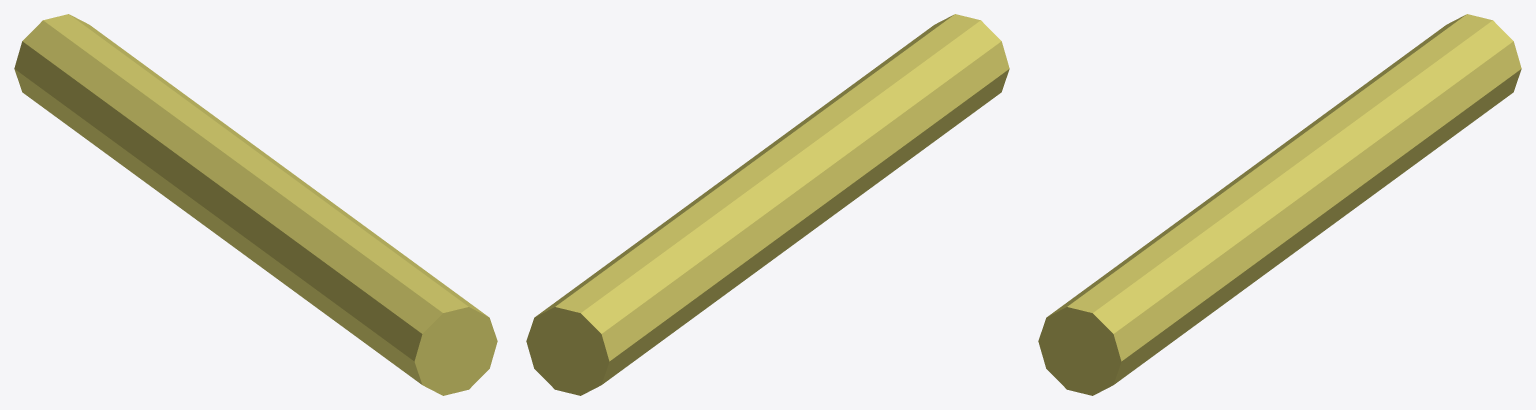
File: banana.glb
3 views of the same model, side by side, from view 1: azimuth 30°, elevation 25°; view 2: azimuth 150°, elevation 25°; view 3: azimuth 330°, elevation 25° (orthographic).
Visible parts, largest first — view 1: geometry_0; view 2: geometry_0; view 3: geometry_0.
Boxes of the visible parts, bbox=[...] form: geometry_0: bbox=[14, 14, 497, 395]; geometry_0: bbox=[526, 14, 1009, 395]; geometry_0: bbox=[1038, 14, 1521, 395].
Size of the model in its own units: 0.24 by 0.2283 by 2.
